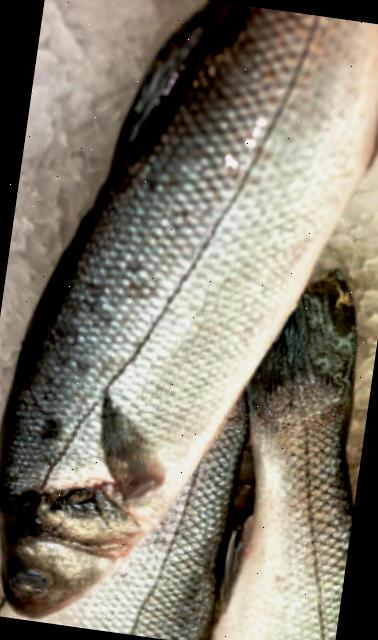Healthy Fish: (0, 0, 378, 621)
